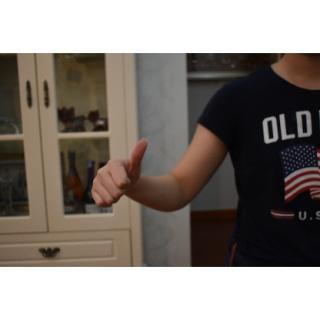ALIF: (88, 133, 152, 212)
